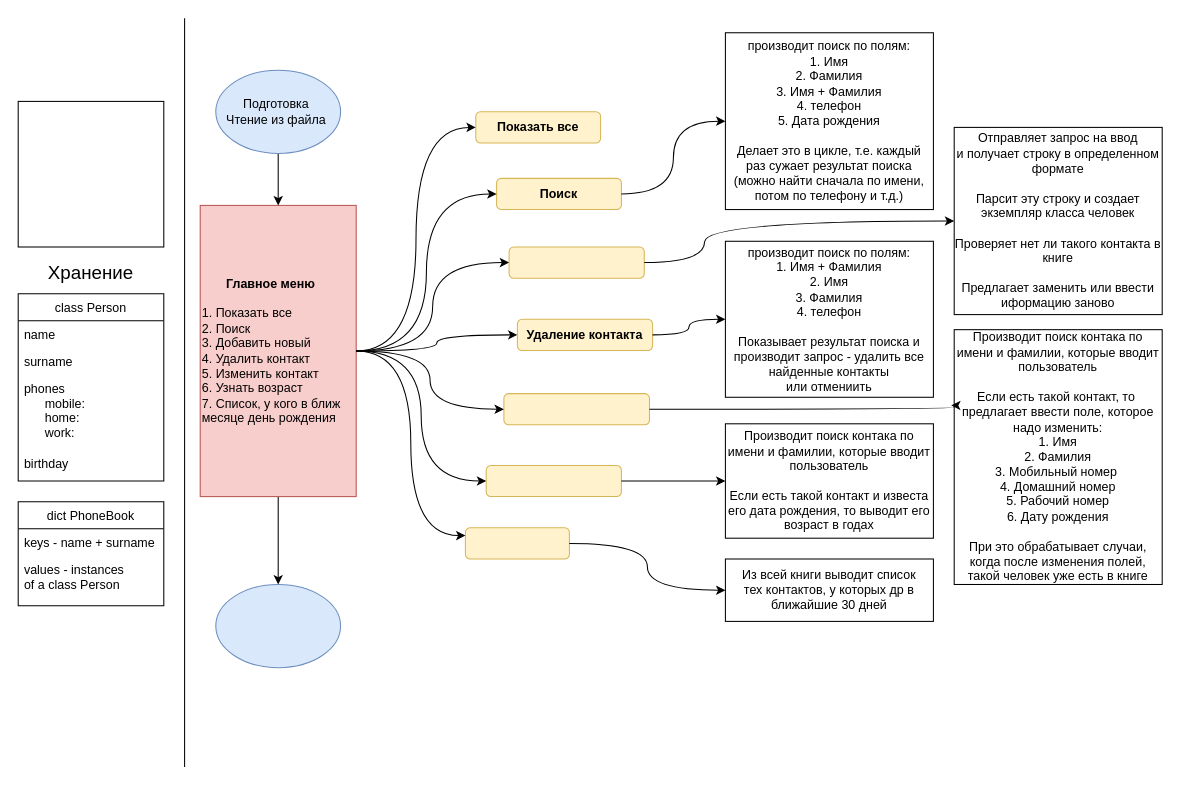
The diagram is 1180 pixels wide and 786 high, and some of its shapes have lost their labels. Each missing label, with the centre of its shape:
Возраст: the point at 553,480
Добавить новый: the point at 576,262
Изменение контакта: the point at 576,409
Перезапись файла с данными Завершение: the point at 278,625
Скоро ДР: the point at 516,543
Текстовый файл: the point at 90,173
